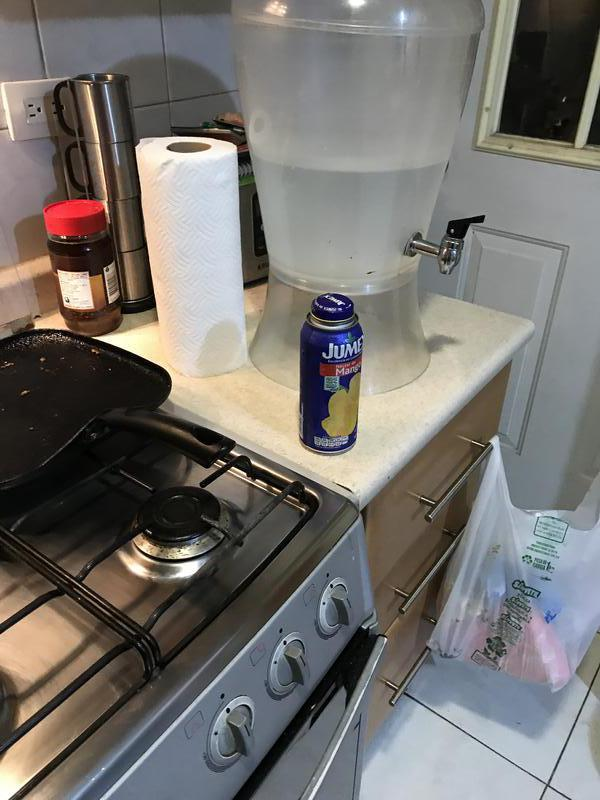jugo_jumex: (299, 293, 360, 453)
